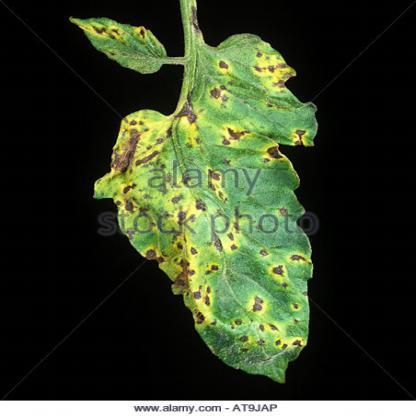Tomato Septoria leaf spot: (98, 78, 326, 383)
